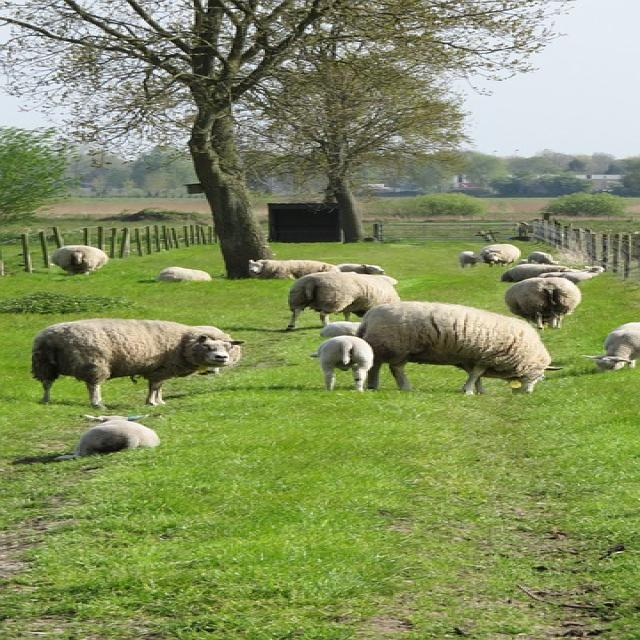goat: (28, 319, 244, 412), (359, 302, 553, 397), (288, 265, 402, 324)
